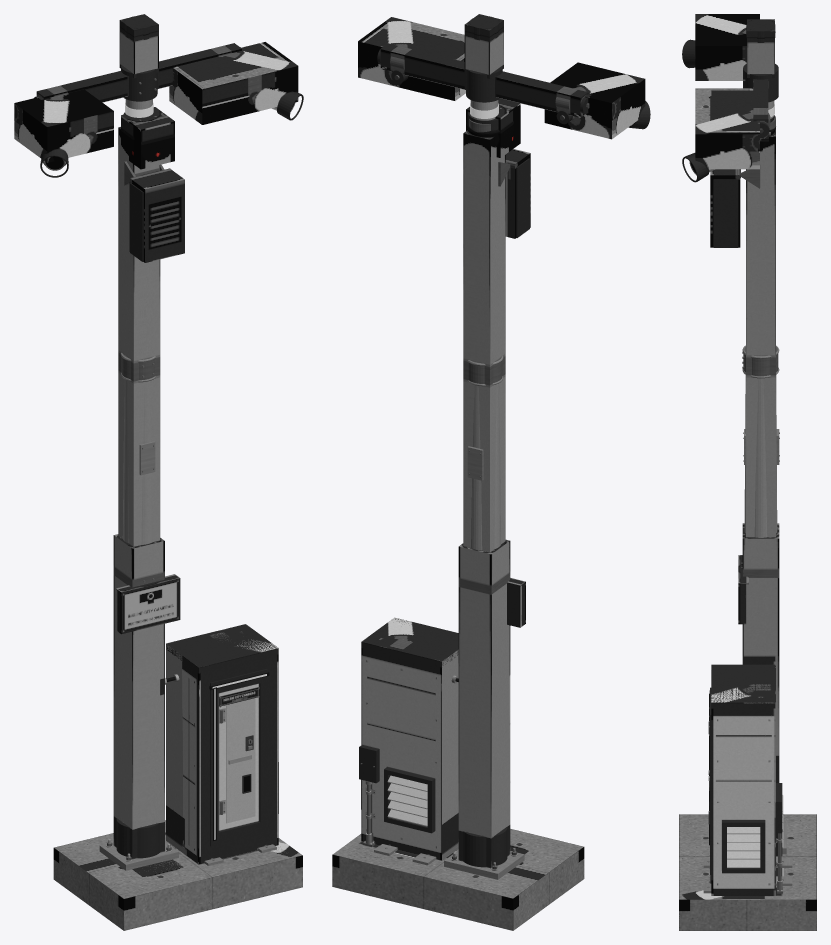
File: cctvmast-Bxryu72g.glb
3 renders of one model, left to right at view 1: azimuth 30°, elevation 25°; view 2: azimuth 150°, elevation 25°; view 3: azimuth 270°, elevation 25°, orthographic. The views are drawn at different scales.
Visible parts, largest first — view 1: farBaked, body, glow; view 2: farBaked, body; view 3: farBaked, body.
Part boxes in pixels (left/top/right/bottom): farBaked: left=14, top=14, right=302, bottom=930; body: left=34, top=16, right=303, bottom=930; glow: left=125, top=102, right=266, bottom=839; farBaked: left=332, top=14, right=645, bottom=930; body: left=332, top=16, right=650, bottom=930; farBaked: left=679, top=14, right=816, bottom=930; body: left=679, top=19, right=816, bottom=930.
Bounding box in the file's own units: 1.38 × 4.34 × 0.64.
3 materials, 3 textured.
